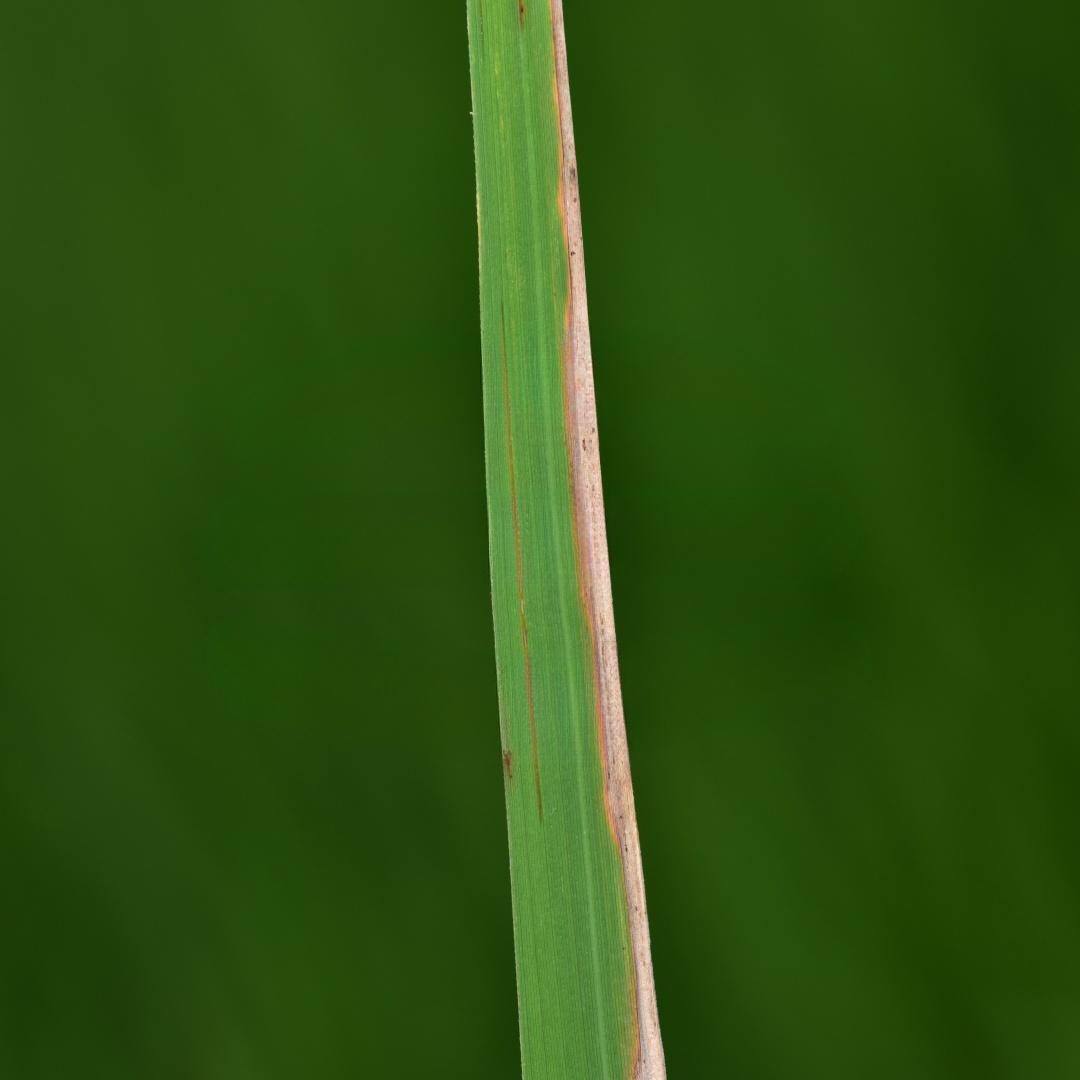BLB: (549, 0, 665, 1079)
LEAF: (467, 0, 665, 1079)
